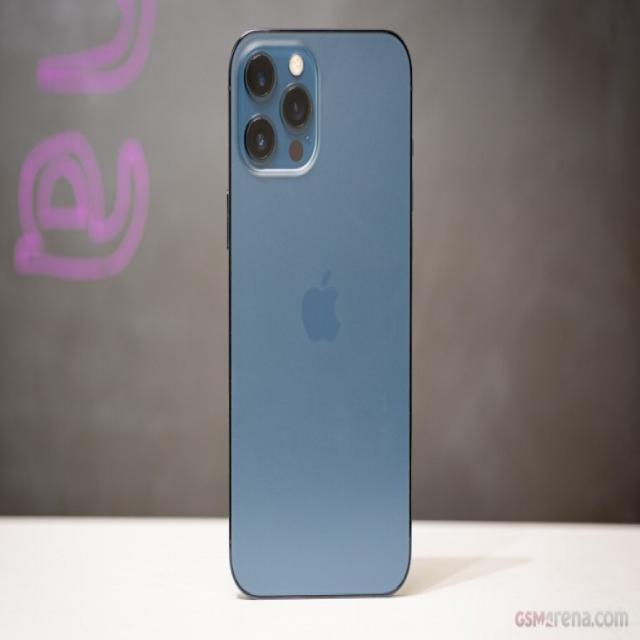phone: (224, 21, 416, 600)
